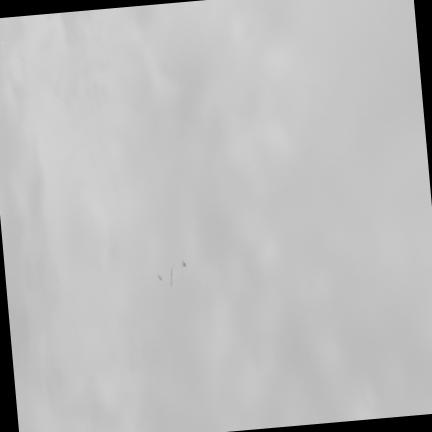Shahed: (157, 262, 185, 286)
